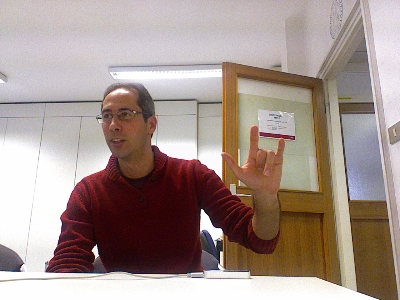我爱你: (220, 123, 285, 193)
